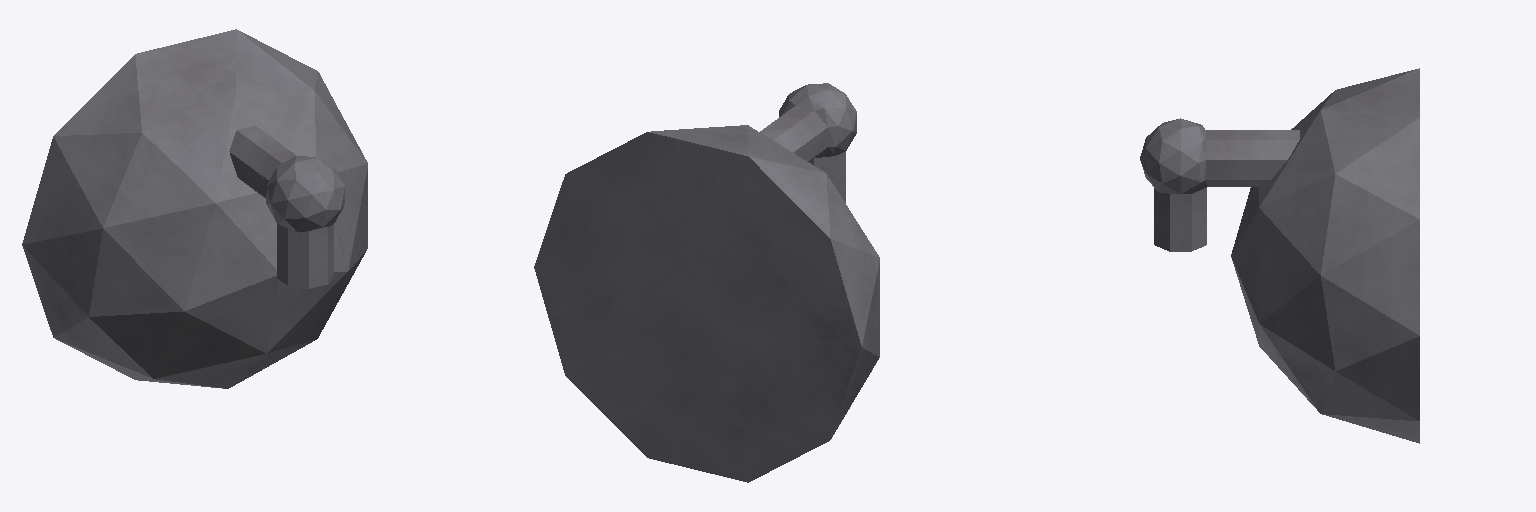
3 renders of one model, left to right at view 1: azimuth 30°, elevation 25°; view 2: azimuth 150°, elevation 25°; view 3: azimuth 270°, elevation 25°, orthographic.
Parts seen in each view (by area): view 1: Icosphere; view 2: Icosphere; view 3: Icosphere.
Boxes of the visible parts, <box> form: Icosphere: <box>22,29,367,388</box>; Icosphere: <box>534,83,879,482</box>; Icosphere: <box>1140,68,1419,443</box>.
Bounding box in the file's own units: 1 × 0.9511 × 0.7406.
Materials: 1 (1 with a texture image).